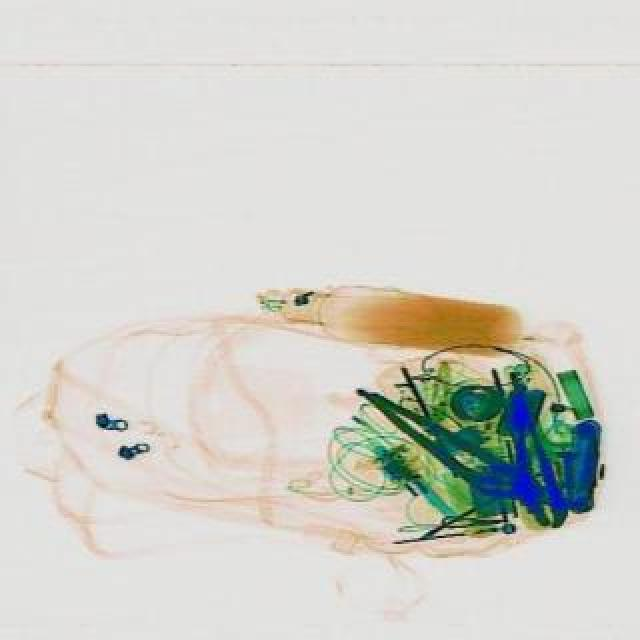wrench: (340, 370, 546, 518)
